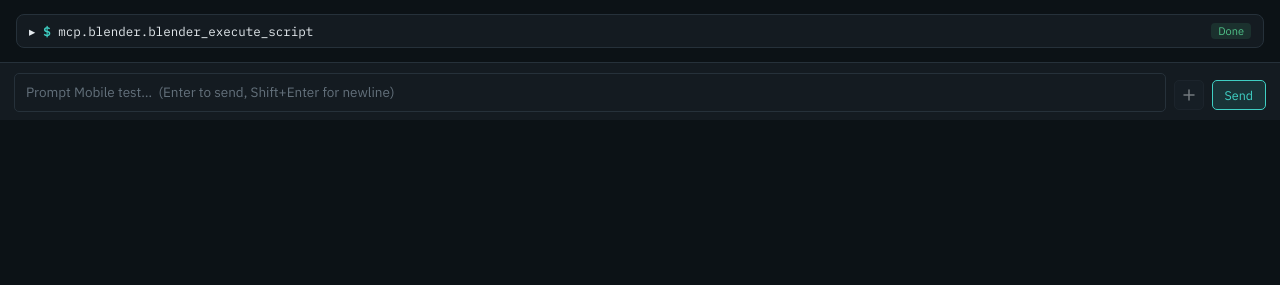
Scenario: TranscriptPane voice rendering › shows arguments for an execute tool whose input is not a command string
The image size is (1280, 285).
Click the element with class "card-head".
click(186, 31)  # box [29, 23, 1251, 39]
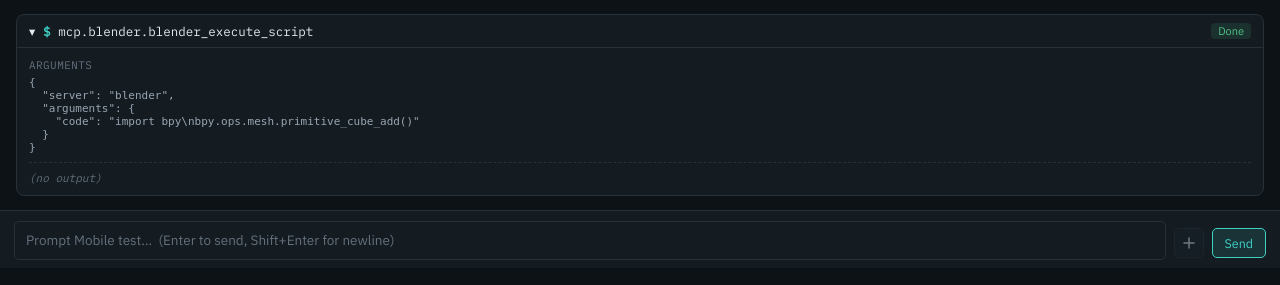
expect the text "Arguments" is shown: met, box [29, 58, 92, 72]
expect the text "primitive_cube_add" is shown: met, box [29, 76, 420, 154]
